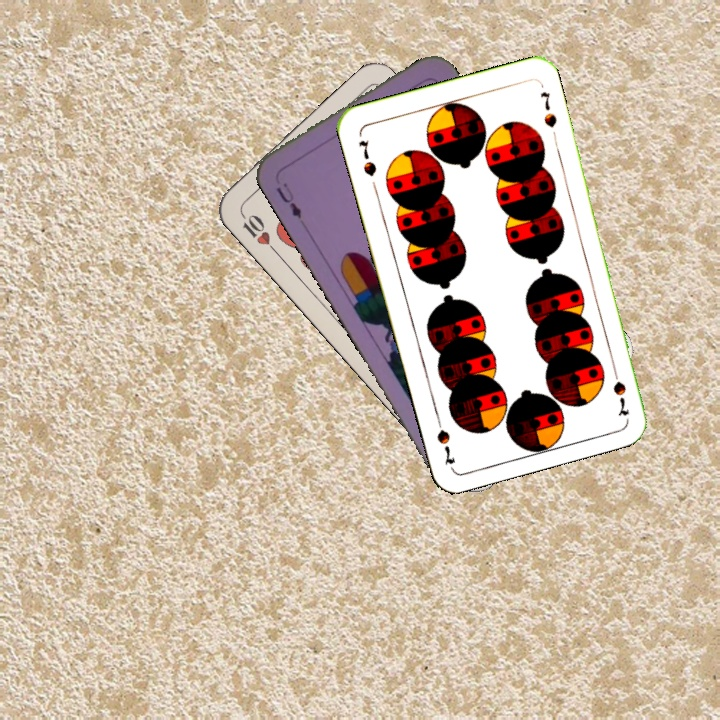EU: (272, 178, 304, 222)
H10: (236, 207, 280, 256)
S7: (608, 361, 632, 419), (354, 135, 379, 179)
